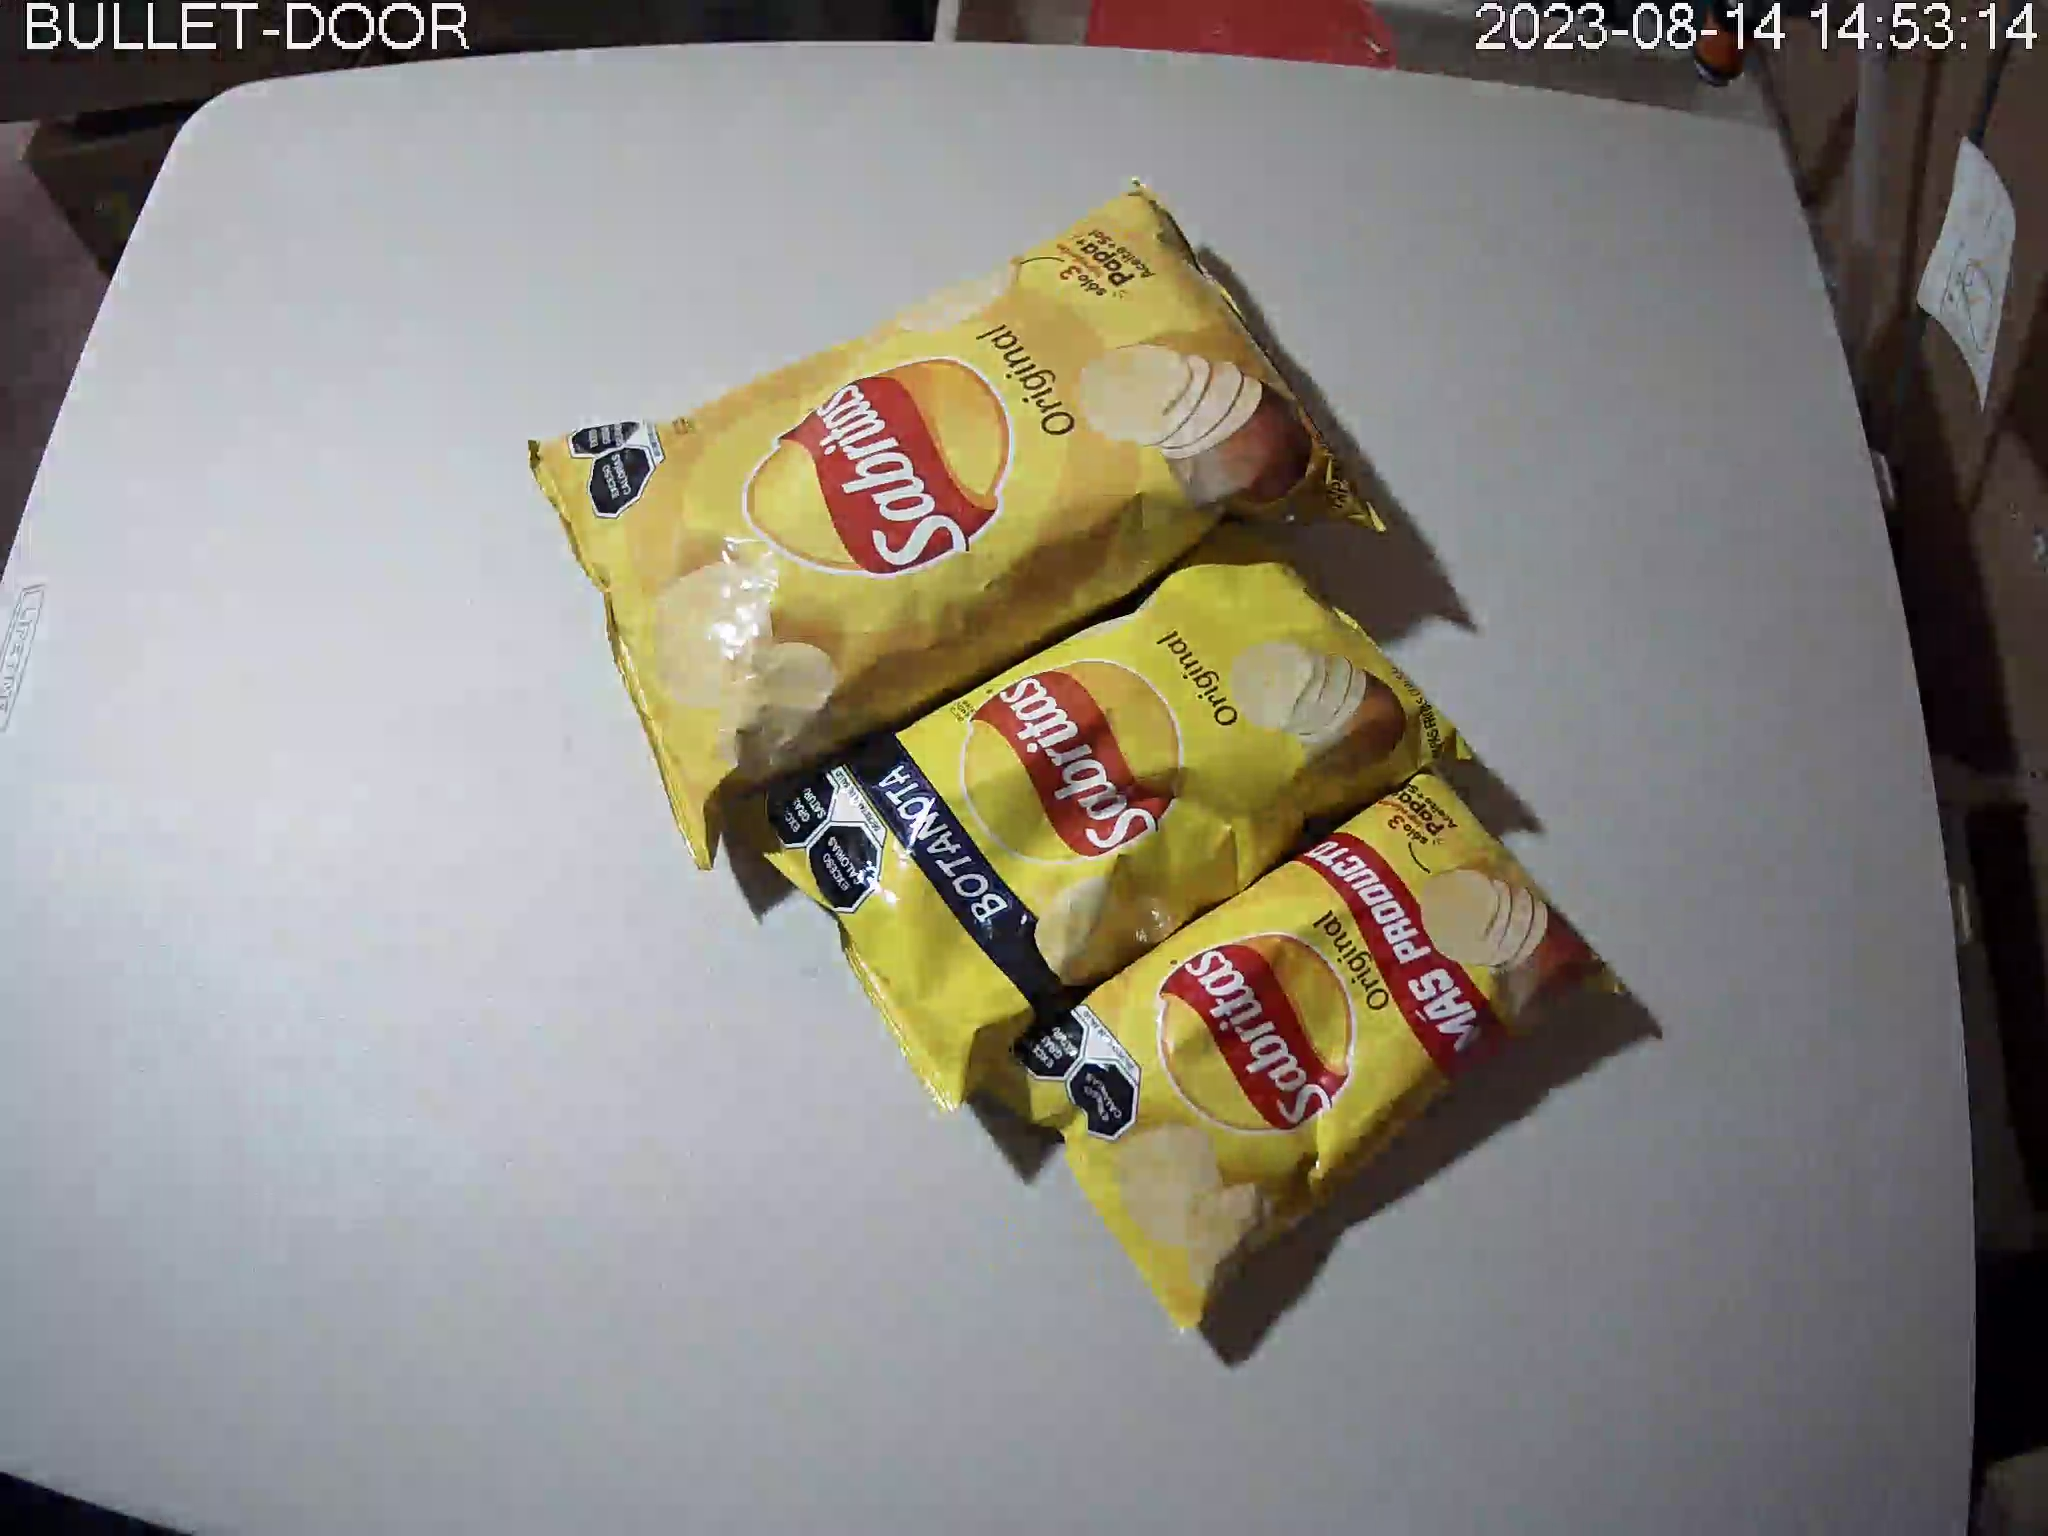Sabritas_160_F: (524, 171, 1390, 873)
Sabritas_45_F: (969, 757, 1624, 1334)
Sabritas_64_F: (716, 507, 1476, 1113)
